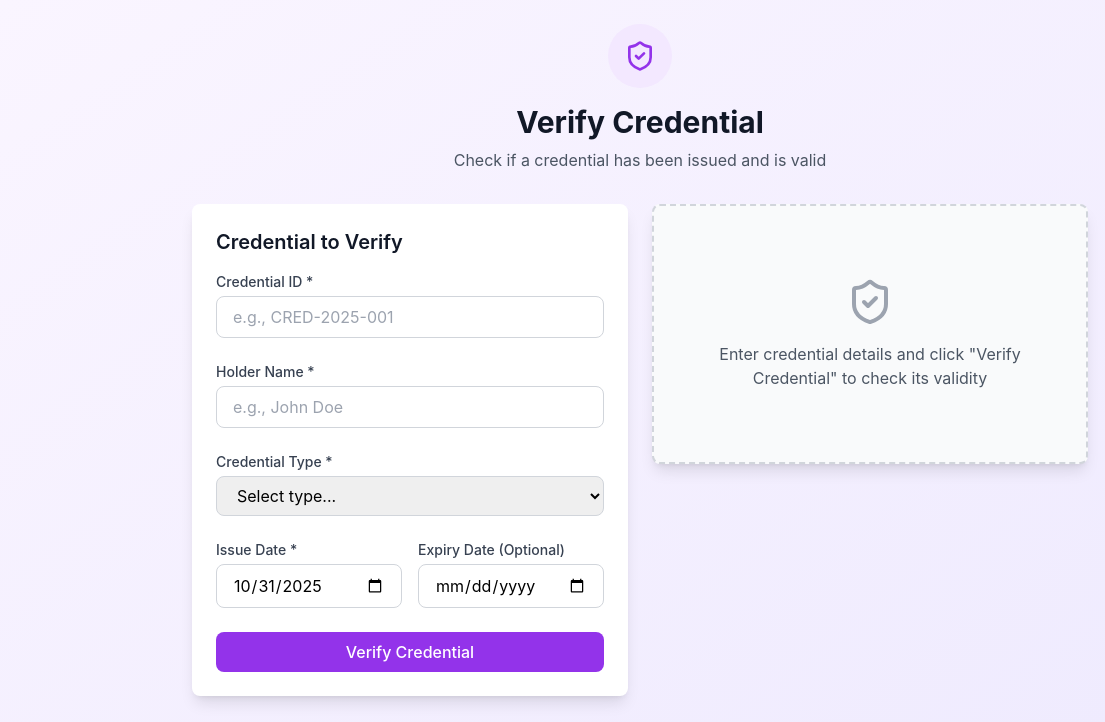
it: VerificationPage › shows failed state when API returns verified=false
Type "CRED-1" into the field labelled "Credential ID *" at (410, 317), box x1=216 y1=296 x2=604 y2=338
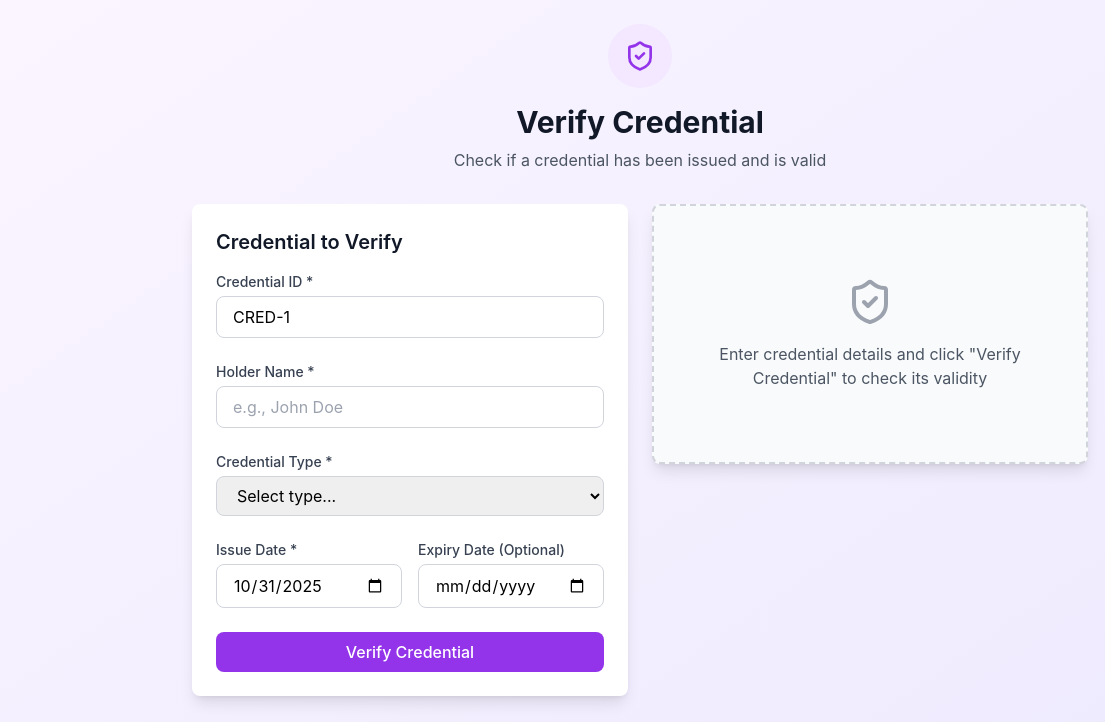
Type "John Doe" into the field labelled "Holder Name *" at (410, 407), box x1=216 y1=386 x2=604 y2=428
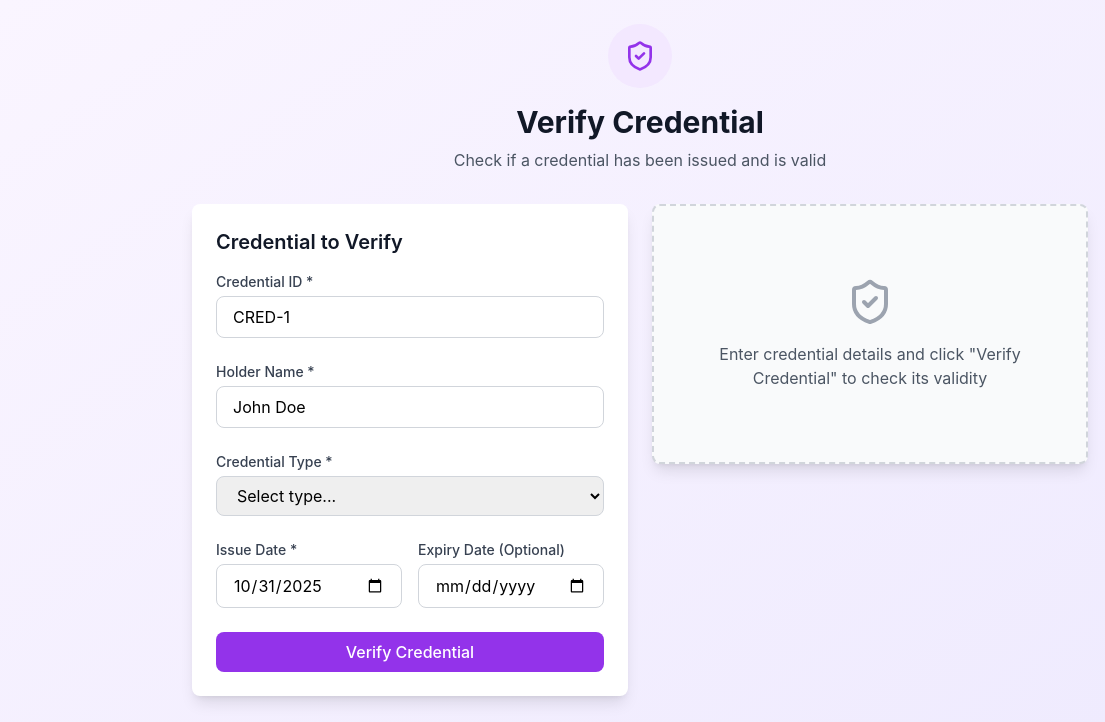
Select "Passport" in the dropdown labelled "Credential Type *" at (410, 496), box x1=216 y1=476 x2=604 y2=516
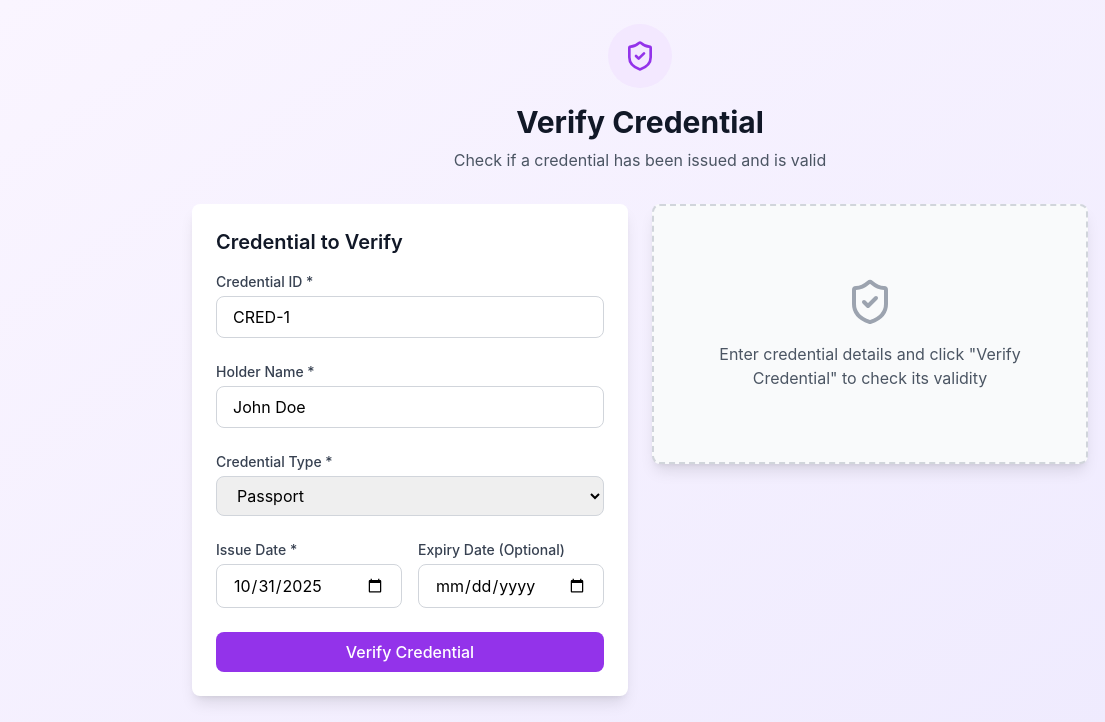
Click the button "Verify Credential" at (410, 652), box x1=216 y1=632 x2=604 y2=672
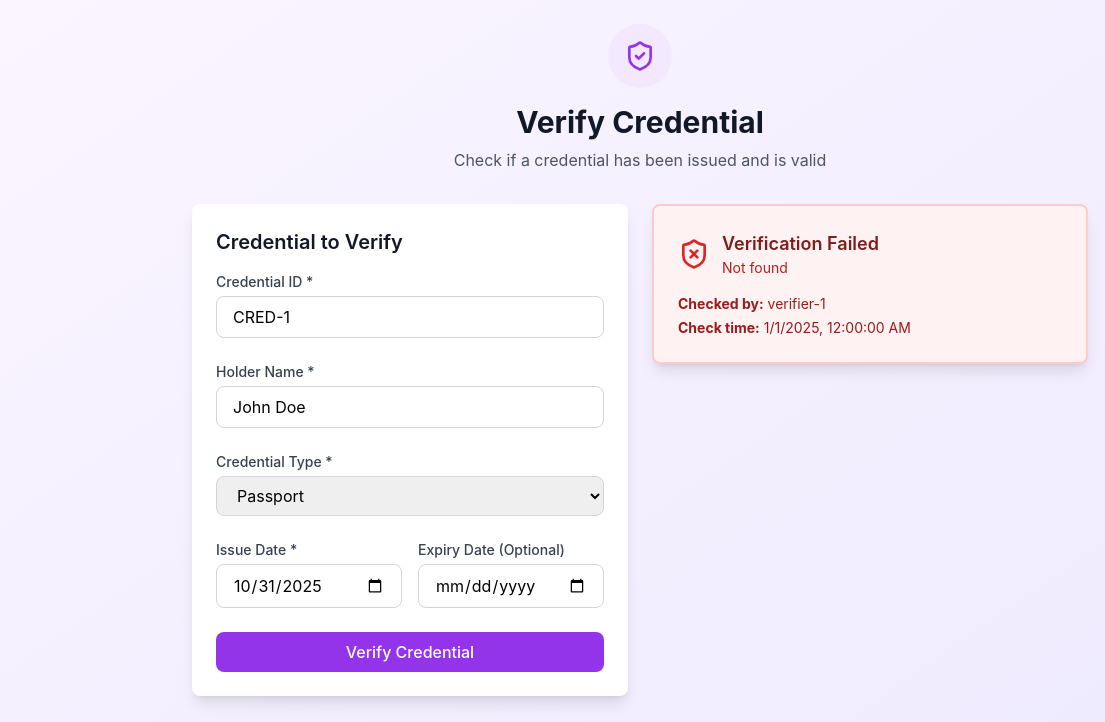
Result: the heading "Verification Failed" is shown at x1=722 y1=230 x2=879 y2=258
Result: the text "Not found" is shown at x1=722 y1=259 x2=788 y2=276
